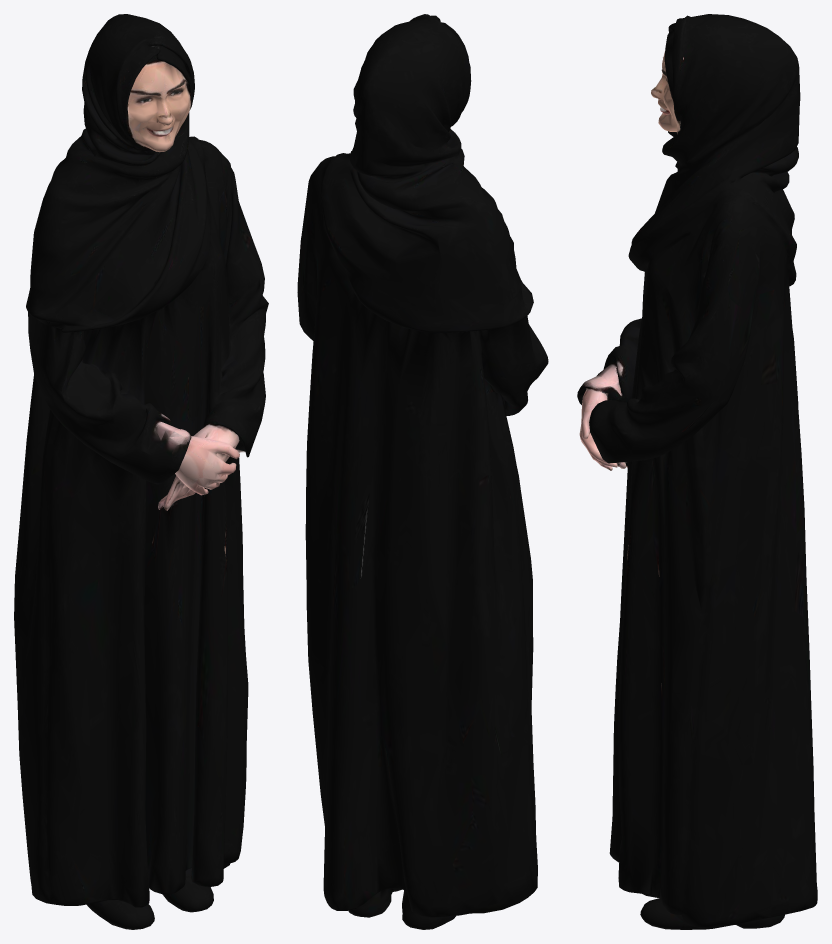
The model's file is gcc-woman-1-near.glb.
3 renders of one model, left to right at view 1: azimuth 30°, elevation 25°; view 2: azimuth 150°, elevation 25°; view 3: azimuth 270°, elevation 25°, orthographic. The views are drawn at different scales.
Visible parts, largest first — view 1: Mesh_0; view 2: Mesh_0; view 3: Mesh_0.
Boxes of the visible parts, x1,y1,x2,y2 form: Mesh_0: (14,14,268,929); Mesh_0: (297,14,548,929); Mesh_0: (577,14,817,929).
Bounding box in the file's own units: 0.5134 × 1.9 × 0.4646.
1 material, 1 textured.
